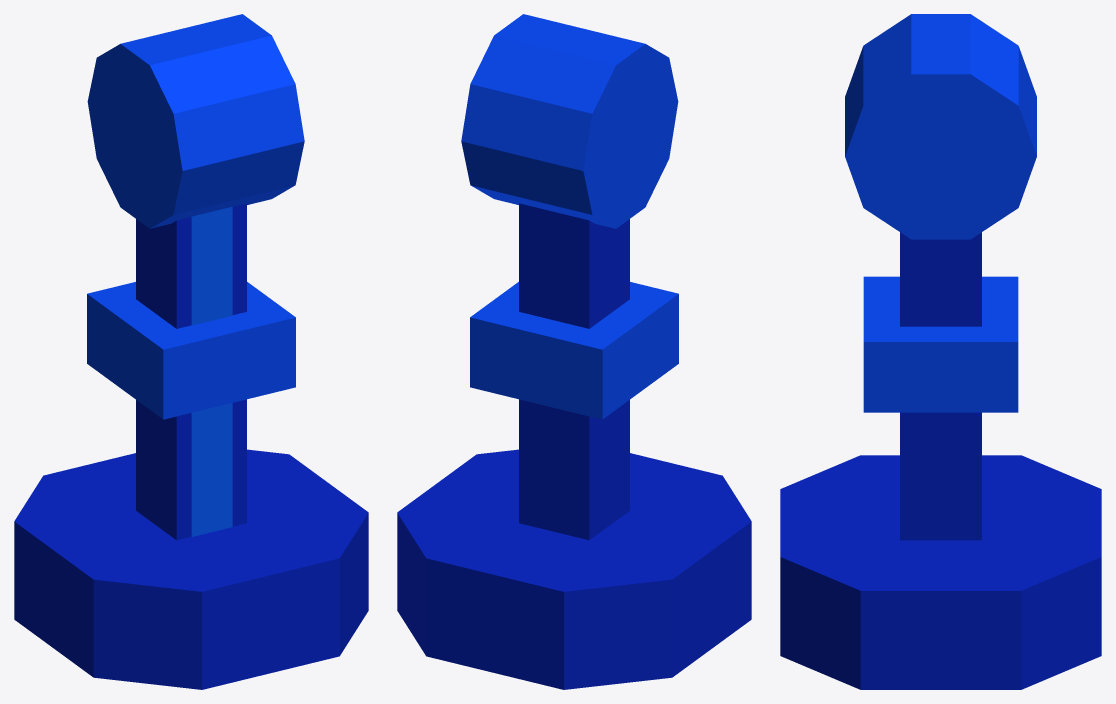
The model's file is Building_038_g.fbx.
3 views of the same model, side by side, from view 1: azimuth 30°, elevation 25°; view 2: azimuth 150°, elevation 25°; view 3: azimuth 270°, elevation 25° (orthographic).
Visible parts, largest first — view 1: Building_038_g; view 2: Building_038_g; view 3: Building_038_g.
Part boxes in pixels (x1=…): Building_038_g: x1=14, y1=14, x2=368, y2=689; Building_038_g: x1=397, y1=14, x2=751, y2=689; Building_038_g: x1=780, y1=14, x2=1101, y2=689.
Size of the model in its own units: 3.16 by 6.31 by 3.16.
